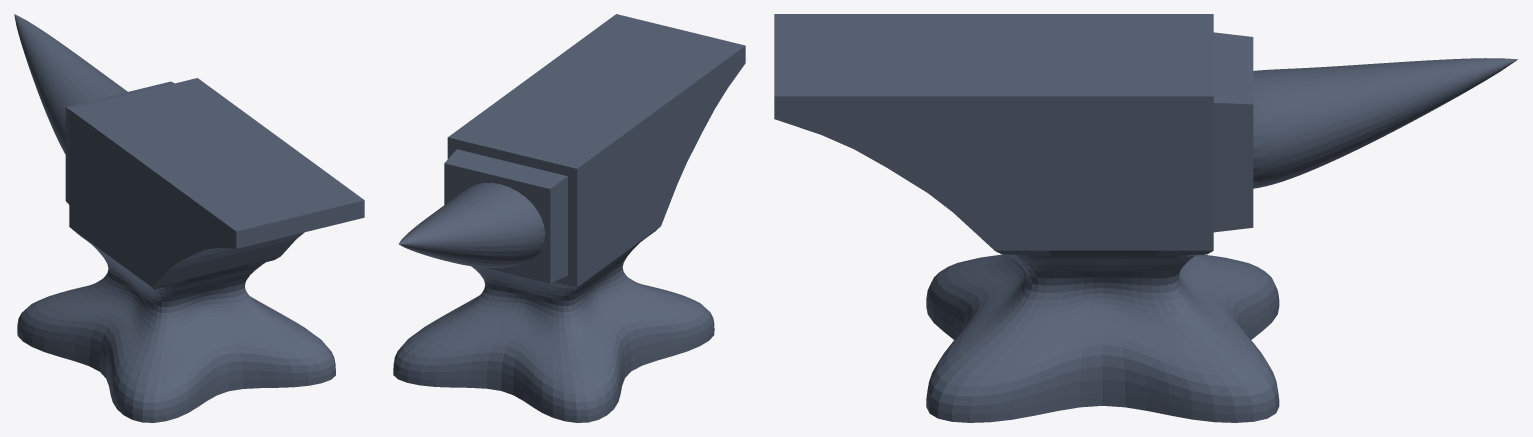
The model's file is Anvil.fbx.
3 renders of one model, left to right at view 1: azimuth 30°, elevation 25°; view 2: azimuth 150°, elevation 25°; view 3: azimuth 270°, elevation 25°, orthographic. The views are drawn at different scales.
Parts seen in each view (by area): view 1: Cube; view 2: Cube; view 3: Cube.
Boxes of the visible parts, bbox=[...] form: Cube: bbox=[14, 14, 364, 422]; Cube: bbox=[393, 14, 745, 422]; Cube: bbox=[774, 14, 1517, 422].
Bounding box in the file's own units: 636 × 673 × 1509.
